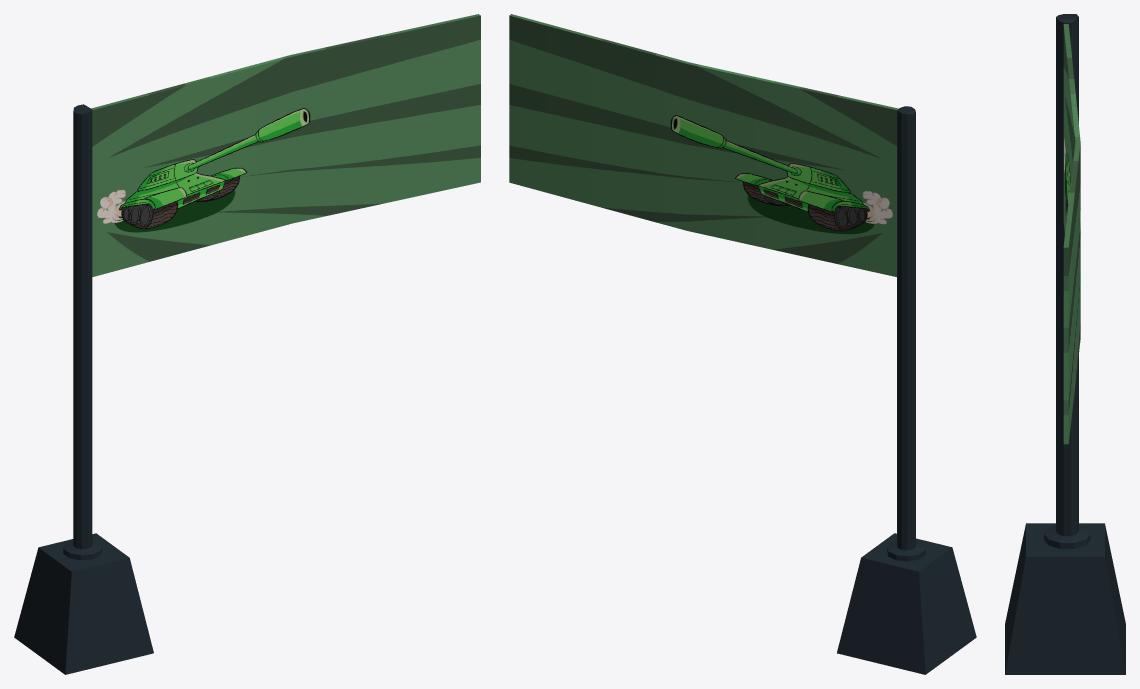
File: bandera.fbx
3 renders of one model, left to right at view 1: azimuth 30°, elevation 25°; view 2: azimuth 150°, elevation 25°; view 3: azimuth 270°, elevation 25°, orthographic. The views are drawn at different scales.
Parts seen in each view (by area): view 1: pCube236, polySurface46; view 2: pCube236, polySurface46; view 3: polySurface46, pCube236.
Part boxes in pixels (x1,y1,x2,y2): pCube236: (91, 14, 480, 276); polySurface46: (14, 104, 153, 674); pCube236: (509, 14, 898, 276); polySurface46: (837, 106, 976, 674); polySurface46: (1005, 14, 1125, 674); pCube236: (1063, 24, 1080, 444).
Bounding box in the file's own units: 4.96 × 5.78 × 1.
2 materials, 1 textured.
